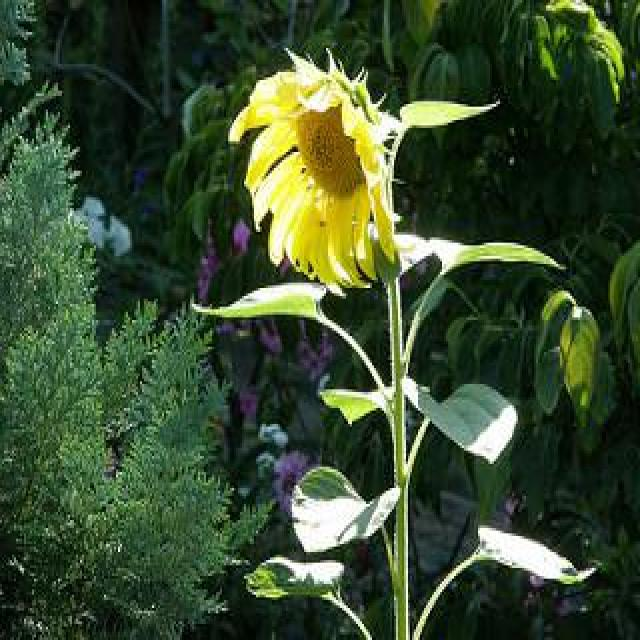sunflower: (229, 46, 402, 290)
